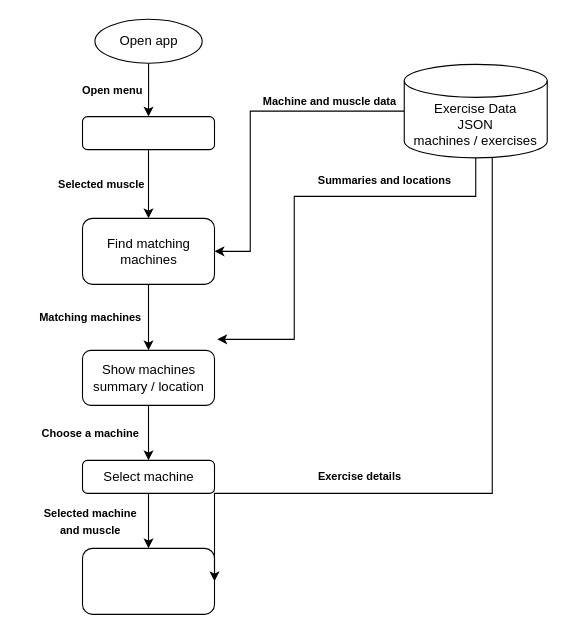
Image size: 567x634. Some labels were removed from this diagram. The centre of each missing label's shape, as x and y in pixels:
"Select muscle group" goes at point (148, 133).
"Show Exercises for Selected Machine and Muscle" goes at point (148, 580).
